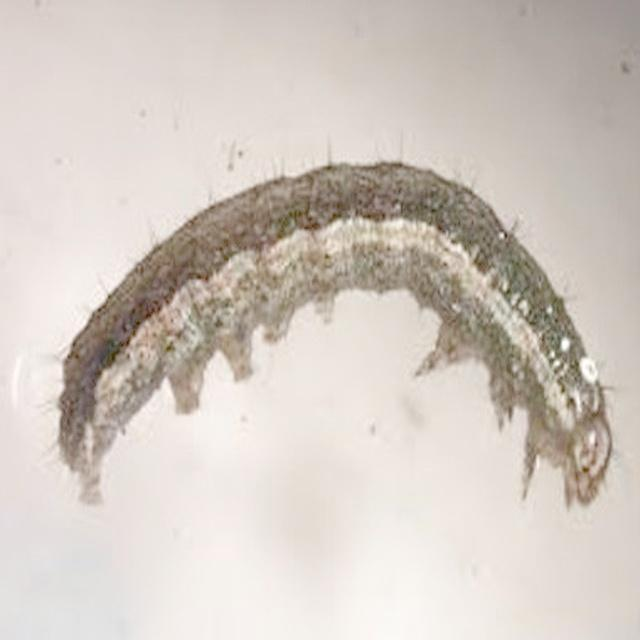gusano_cogollero: (52, 138, 614, 503)
